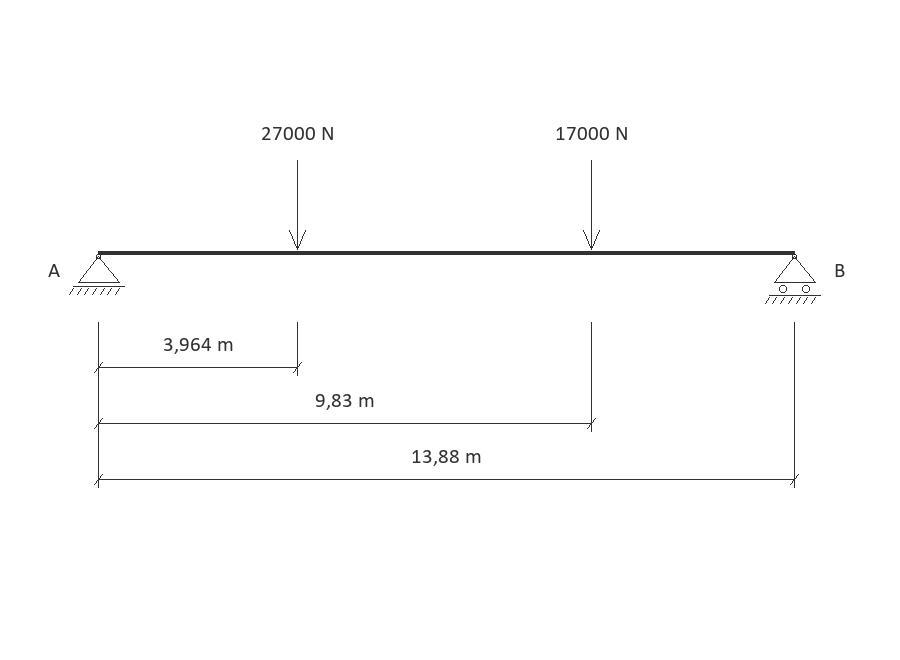pin_support: (69, 254, 125, 295)
point_load: (289, 160, 306, 250), (583, 160, 600, 250)
roller_support: (765, 254, 821, 304)
